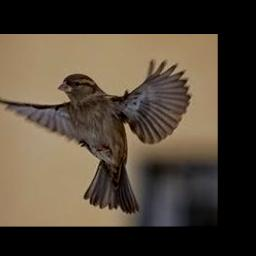Sparrow: (0, 59, 191, 213)
